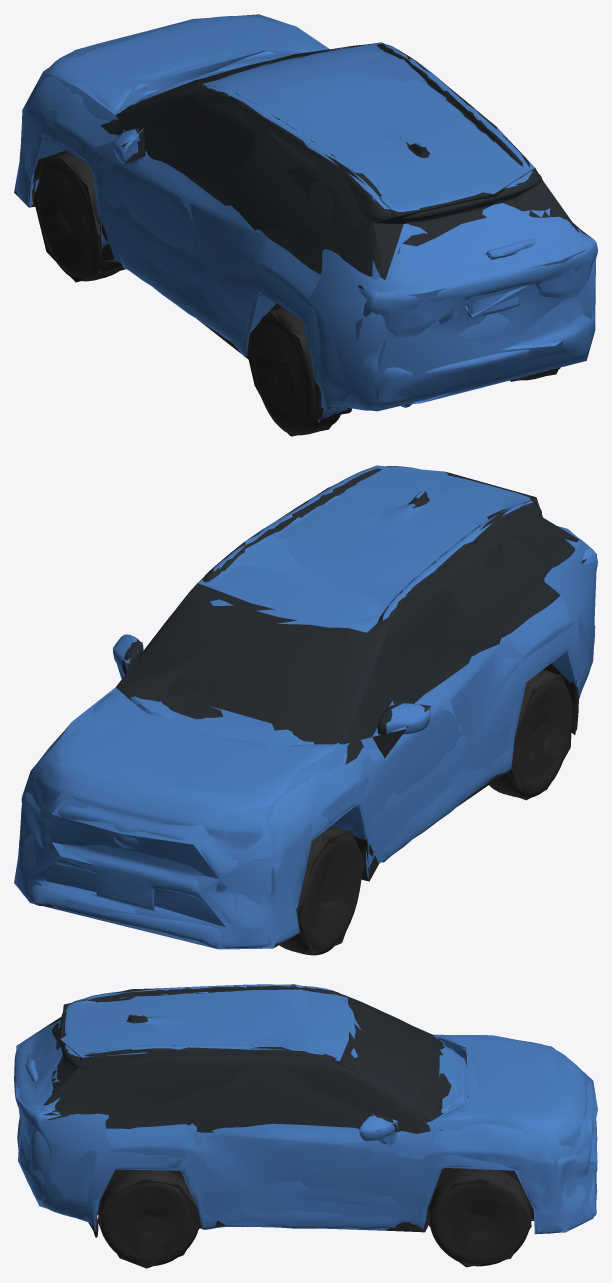
Rendered from toyota-rav4.glb.
3 views of the same model, one above another, from view 1: azimuth 30°, elevation 25°; view 2: azimuth 150°, elevation 25°; view 3: azimuth 270°, elevation 25° (orthographic). The views are drawn at different scales.
Parts seen in each view (by area): view 1: body, far; view 2: body, far; view 3: body, far.
Part boxes in pixels (x1,y1,x2,y2): body: (16,16,597,435); far: (14,14,595,436); body: (15,466,597,955); far: (14,465,596,954); body: (14,984,597,1266); far: (15,984,597,1268).
Bounding box in the file's own units: 2.22 × 1.8 × 4.64.
